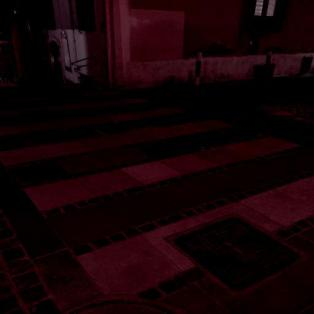Paso de Cebra: (0, 116, 307, 218)
